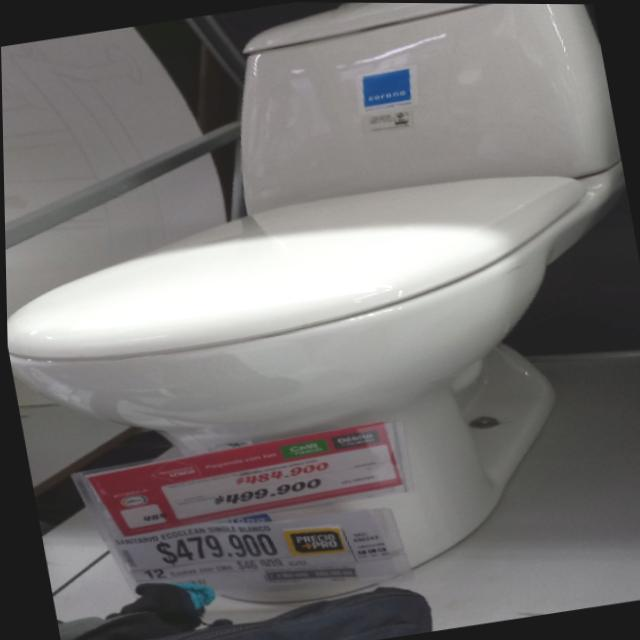toilet: (0, 0, 640, 633)
